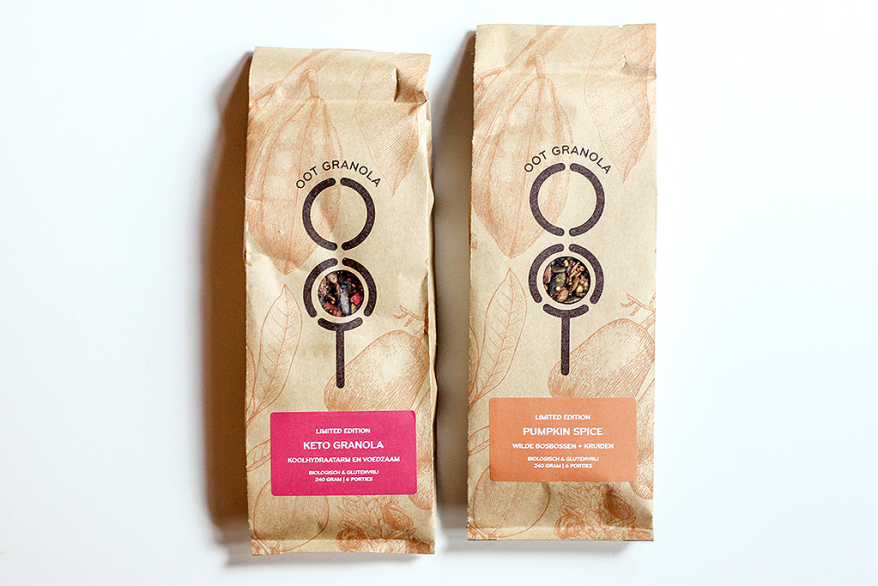KetoGranola: (267, 409, 422, 500)
